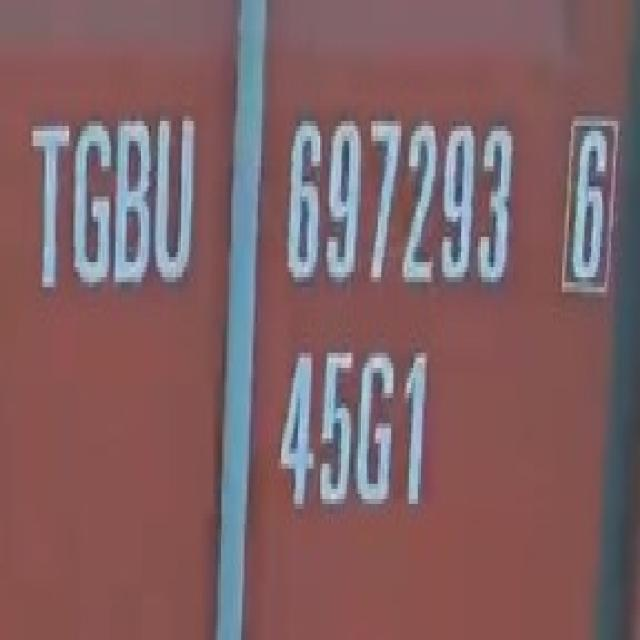dv: (548, 108, 626, 311)
owner: (22, 101, 202, 311)
serial: (272, 105, 524, 307)
size: (270, 332, 437, 520)
